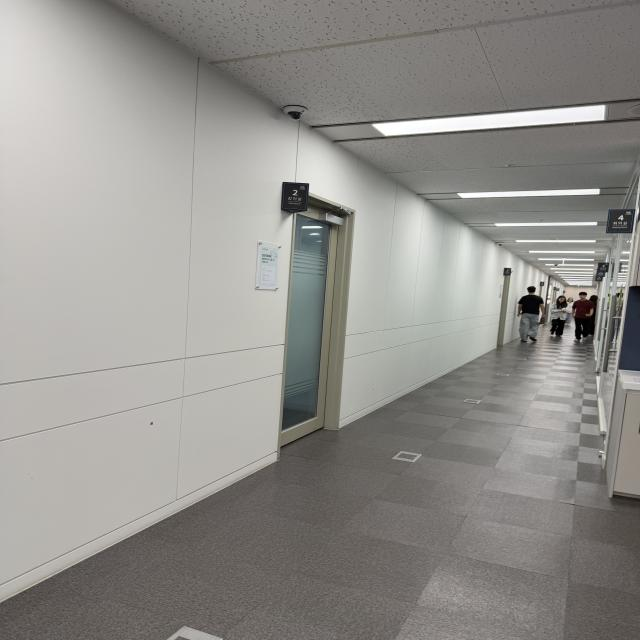sign: (280, 181, 307, 209)
